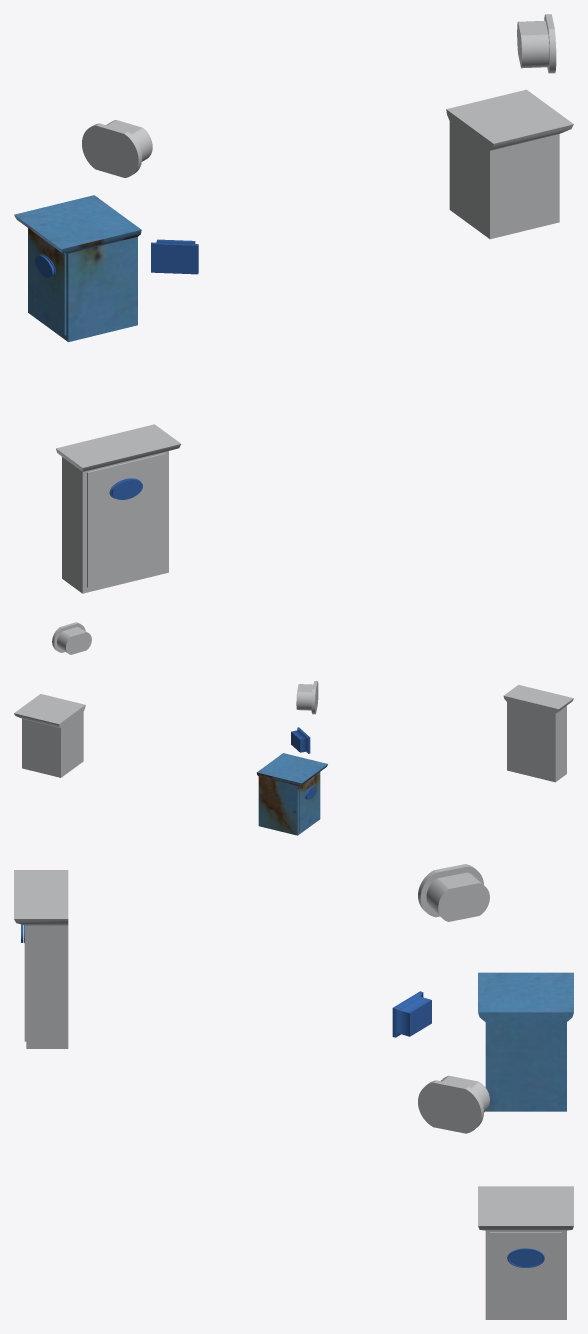
Rendered from tank_.FBX.
3 renders of one model, top to bottom at view 1: azimuth 30°, elevation 25°; view 2: azimuth 150°, elevation 25°; view 3: azimuth 270°, elevation 25°, orthographic. The views are drawn at different scales.
Visible parts, largest first — view 1: tank_Box16, tank_Box14, tank_Box03, tank_Shape01, tank_Shape02, tank_Box04; view 2: tank_Box16, tank_Box14, tank_Box03, tank_Shape02, tank_Shape01, tank_Box04; view 3: tank_Box03, tank_Box14, tank_Box16, tank_Shape01, tank_Shape02, tank_Box04.
Boxes of the visible parts, bbox=[...] form: tank_Box16: bbox=[56, 424, 180, 593]; tank_Box14: bbox=[446, 89, 573, 239]; tank_Box03: bbox=[14, 195, 141, 341]; tank_Shape01: bbox=[82, 120, 152, 177]; tank_Shape02: bbox=[517, 14, 556, 73]; tank_Box04: bbox=[151, 239, 198, 274]; tank_Box16: bbox=[503, 684, 573, 782]; tank_Box14: bbox=[14, 694, 85, 777]; tank_Box03: bbox=[256, 753, 327, 835]; tank_Shape02: bbox=[52, 622, 91, 654]; tank_Shape01: bbox=[296, 681, 318, 714]; tank_Box04: bbox=[291, 727, 310, 753]; tank_Box03: bbox=[478, 972, 573, 1111]; tank_Box14: bbox=[478, 1186, 573, 1319]; tank_Box16: bbox=[14, 870, 68, 1048]; tank_Shape01: bbox=[418, 864, 489, 921]; tank_Shape02: bbox=[418, 1075, 489, 1133]; tank_Box04: bbox=[392, 991, 431, 1037].
Bounding box in the file's own units: 0.0668 × 0.0224 × 0.0444.
